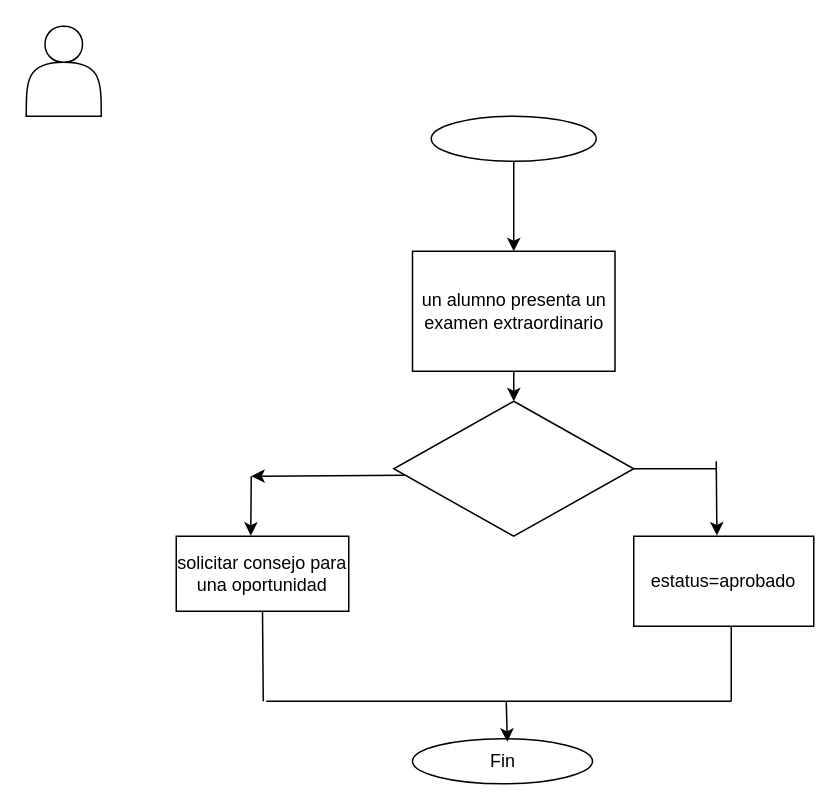
Image size: 840x810. Some labels were removed from this diagram. The shapes that lost their labels are listed below. From the top down, each one's centre as x and y in pixels, then its label:
At (x=513, y=138): "Inicio".
At (x=513, y=468): "calificacion>70 si pasa".
